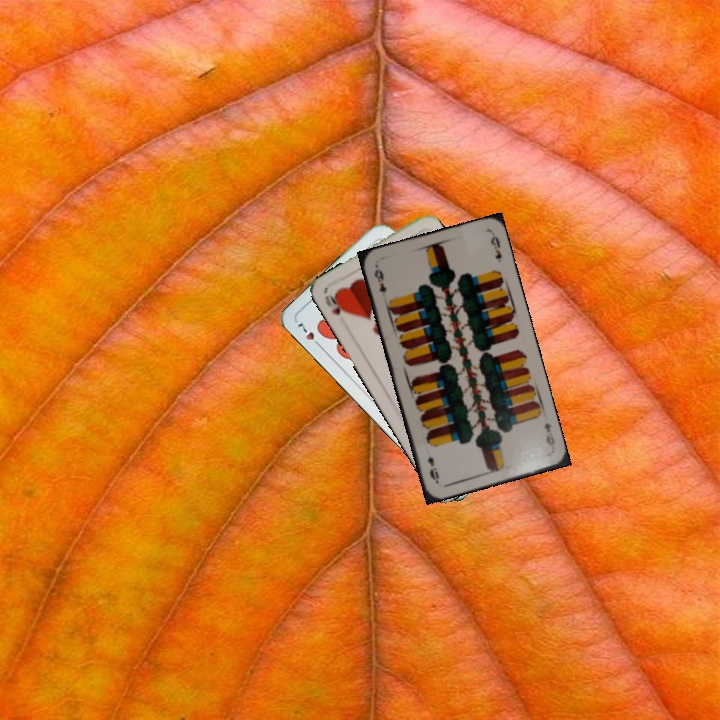E9: (370, 263, 389, 295), (539, 419, 557, 452)
H7: (293, 319, 325, 351)
HO: (321, 289, 349, 318)
